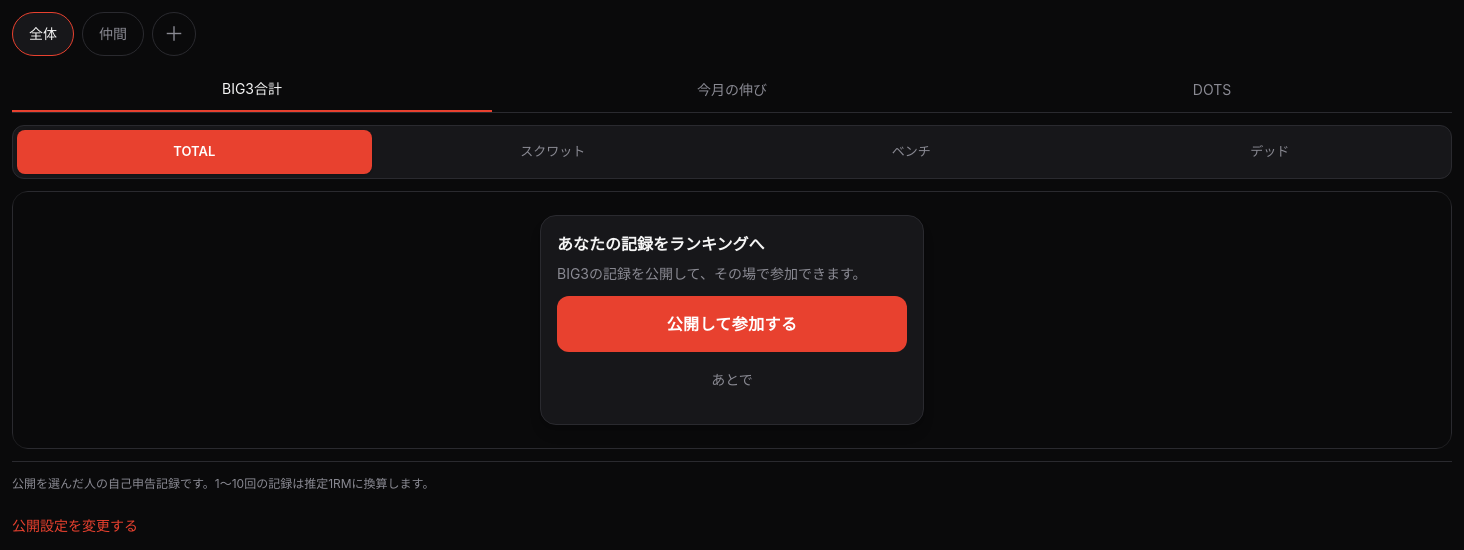
Test: keeps a ranking failure on screen with retry on the DOTS tab
Click the button "仲間" at (113, 34), box [82,12,144,56]
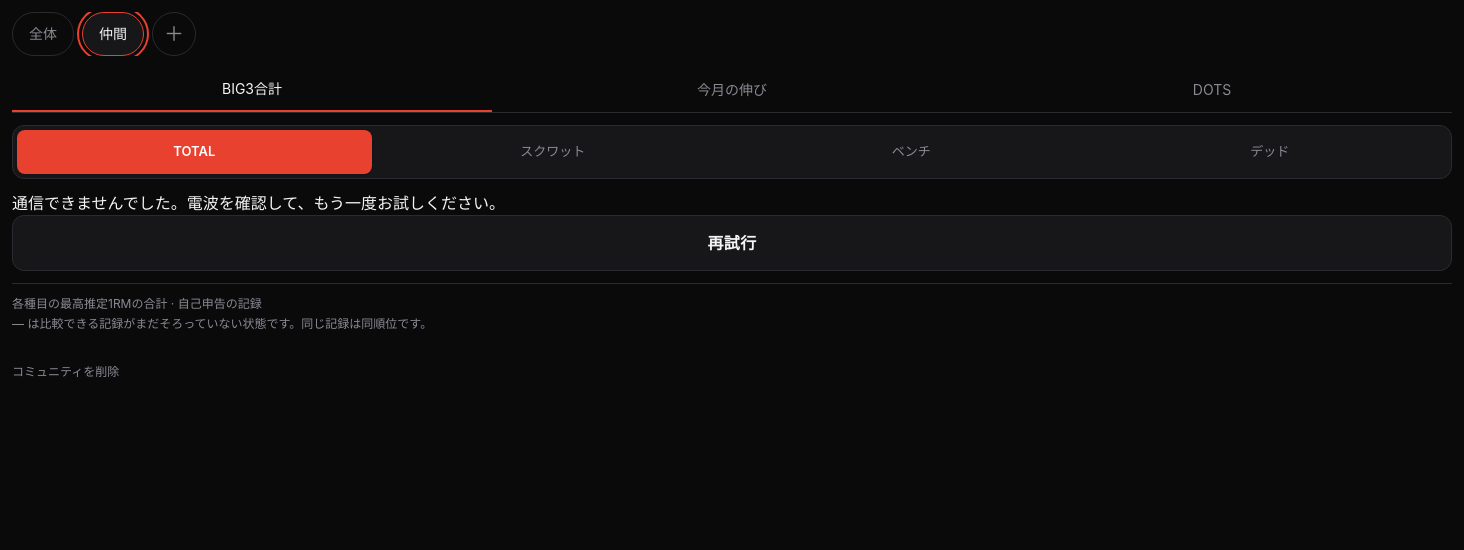
Click the button "DOTS" at (1212, 90), box [972,68,1452,112]
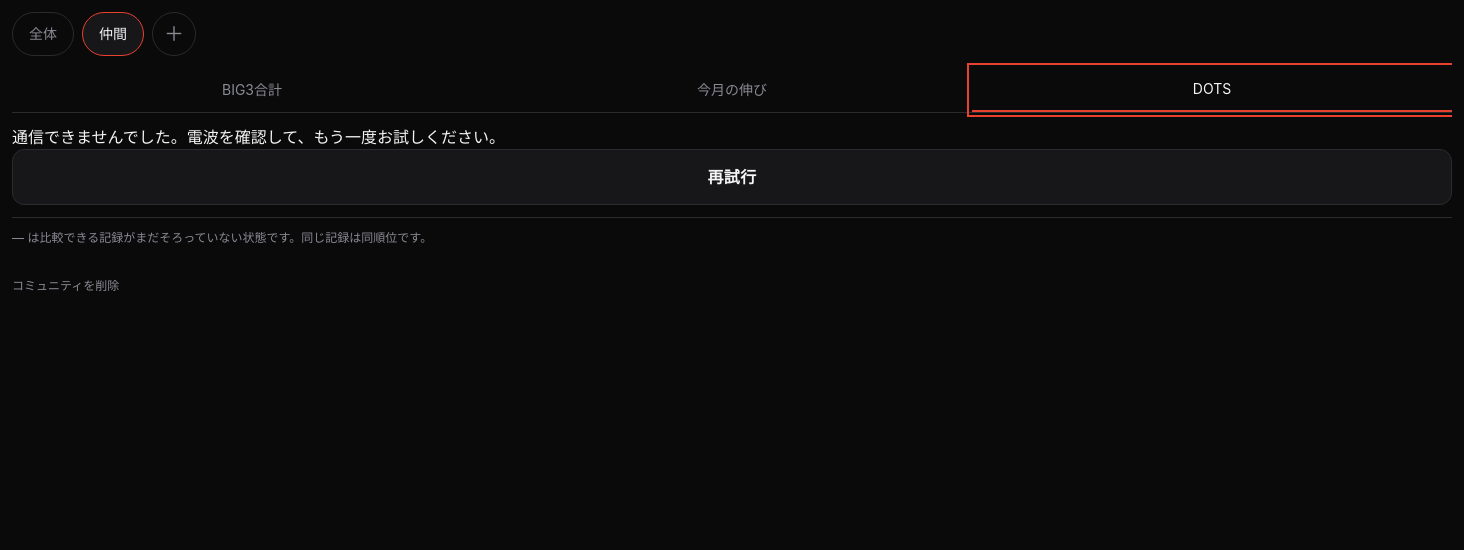
Check: the message "通信できませんでした。電波を確認して、もう一度お試しください。" is shown, box [12,127,505,147]
Click the button "再試行" at (732, 177), box [12,149,1452,205]
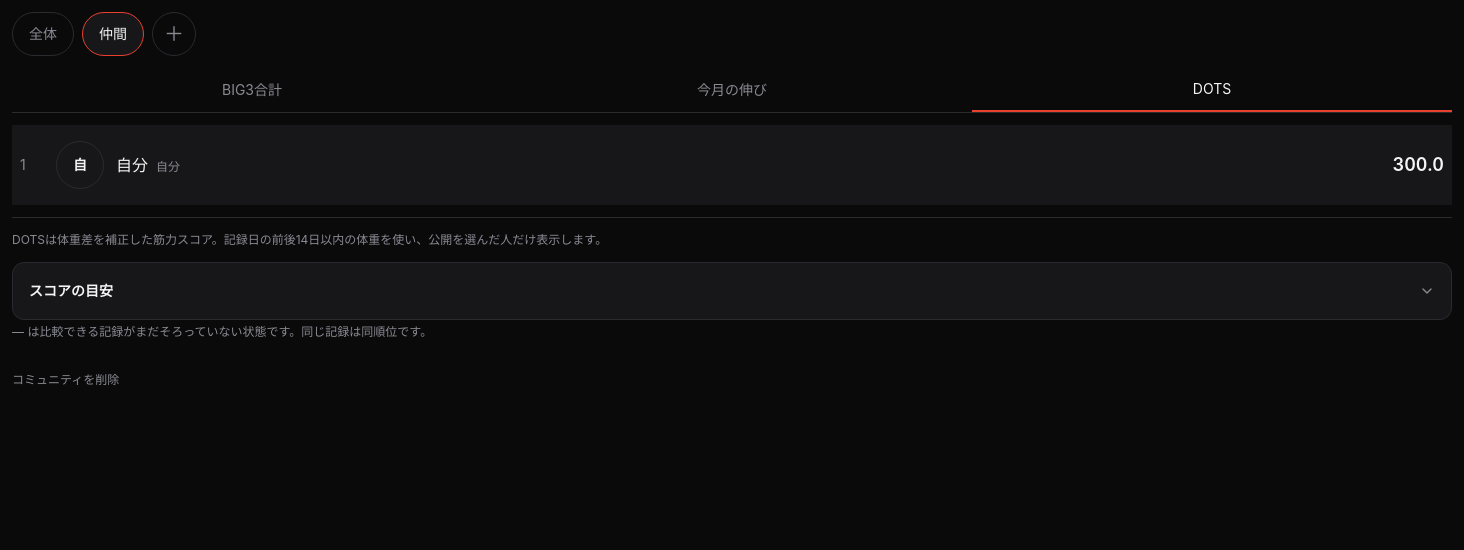
Check: the text "300.0" is shown, box [1393,151,1444,179]
